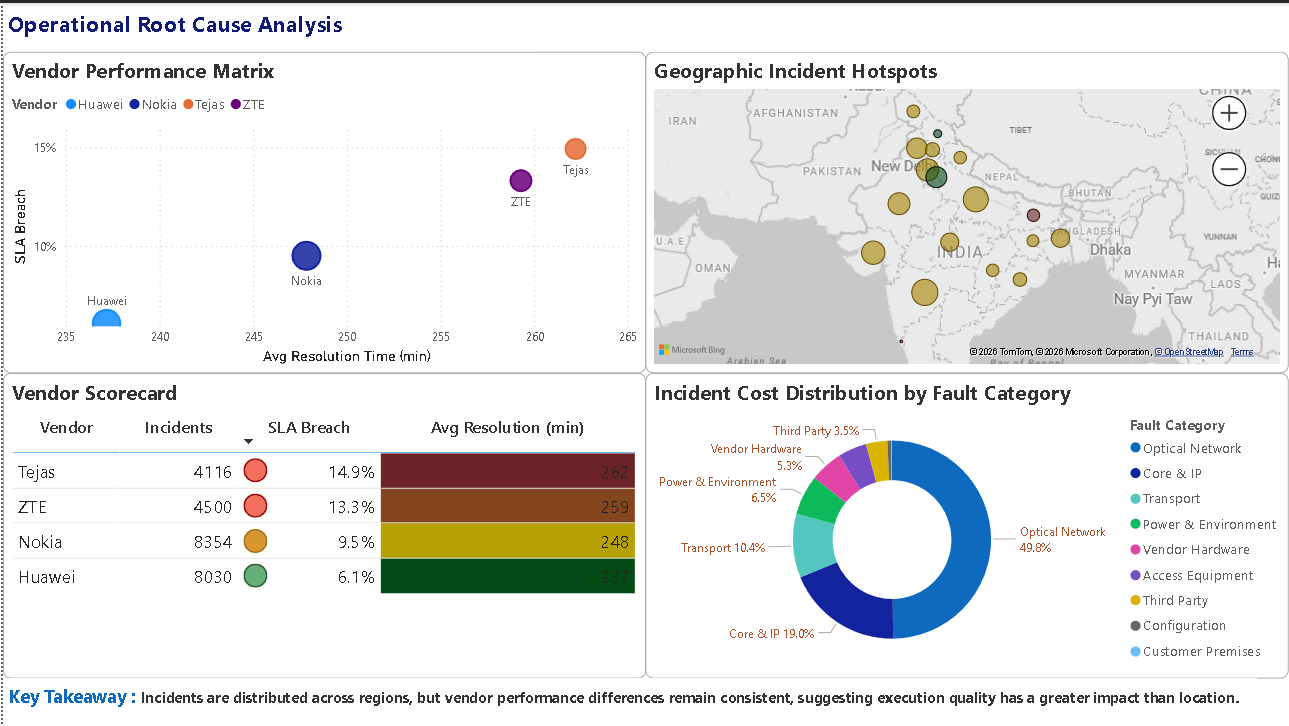

The dashboard page shown, as its layout file describes it:
{"tool":"powerbi","page":{"name":"Operational Root Cause Analysis","canvas":[1280,720],"ordinal":1},"visuals":[{"type":"scatterChart","title":"Vendor Performance Matrix","fields":{"Y":["Measure.SLA Breach"],"Size":["Measure.Total Incidents"],"Series":["Dim_VendorTechnology.Vendor"],"X":["Measure.Average Resolution Time"]},"box":[0,48,640,320],"z":0},{"type":"tableEx","title":"Vendor Scorecard","fields":{"Values":["Dim_VendorTechnology.Vendor","Measure.Total Incidents","Measure.SLA Breach","Measure.Average Resolution Time"]},"box":[0,368,640,304],"z":1000},{"type":"map","title":"Geographic Incident Hotspots","fields":{"Category":["Dim_Site.State_UT"],"Size":["Measure.Total Incidents"]},"box":[640,48,640,320],"z":2000},{"type":"donutChart","title":"Incident Cost Distribution by Fault Category","fields":{"Category":["Dim_Fault.Fault_Category"],"Y":["Measure.Incident Cost M"]},"box":[640,368,640,304],"z":3000},{"type":"textbox","box":[0,0,528,48],"z":4000},{"type":"textbox","box":[0,672,1248,48],"z":5000}]}

Visuals, with their boxes in screenshot pixels (x1, y1, x2, y2), scaled from the page's 1280x720 canvas onto the 1289x726 screenshot:
"Vendor Performance Matrix" scatterChart: x1=0, y1=48, x2=644, y2=371
"Vendor Scorecard" tableEx: x1=0, y1=371, x2=644, y2=678
"Geographic Incident Hotspots" map: x1=644, y1=48, x2=1288, y2=371
"Incident Cost Distribution by Fault Category" donutChart: x1=644, y1=371, x2=1288, y2=678
textbox: x1=0, y1=0, x2=532, y2=48
textbox: x1=0, y1=678, x2=1257, y2=725
